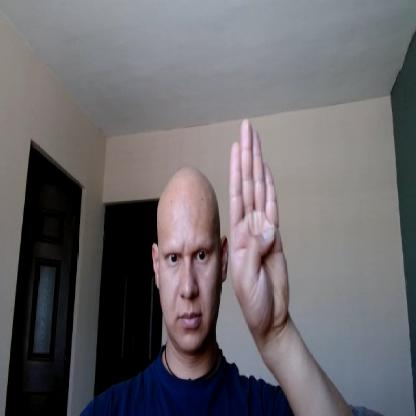B: (226, 118, 290, 338)
